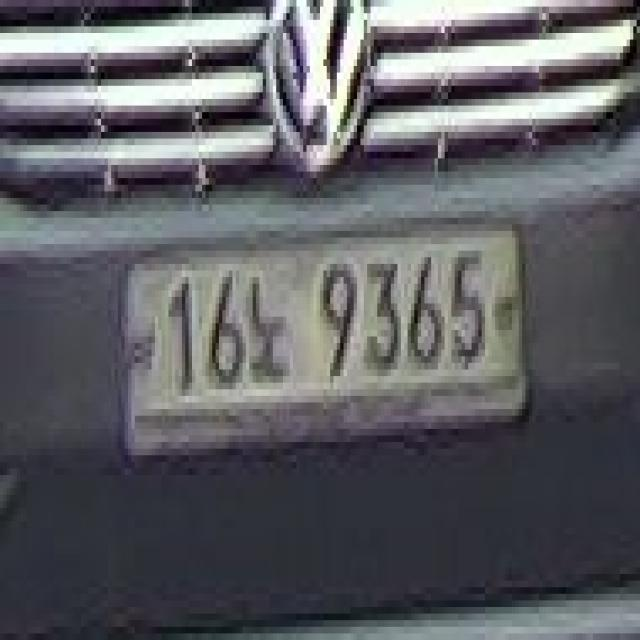1: (158, 264, 202, 409)
3: (364, 251, 404, 389)
5: (448, 238, 495, 376)
6: (202, 264, 249, 409), (404, 250, 448, 382)
9: (314, 251, 361, 389)
license_plate: (108, 204, 536, 482)
no: (246, 257, 296, 409)
